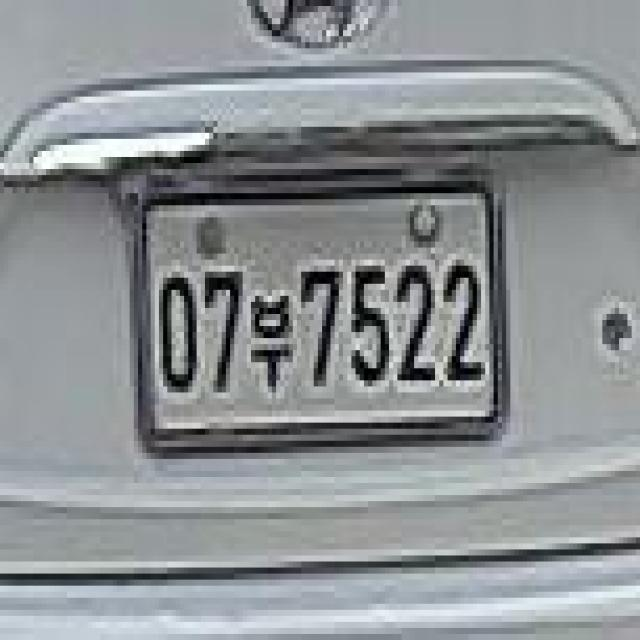illegal_plate: (127, 171, 515, 456)
